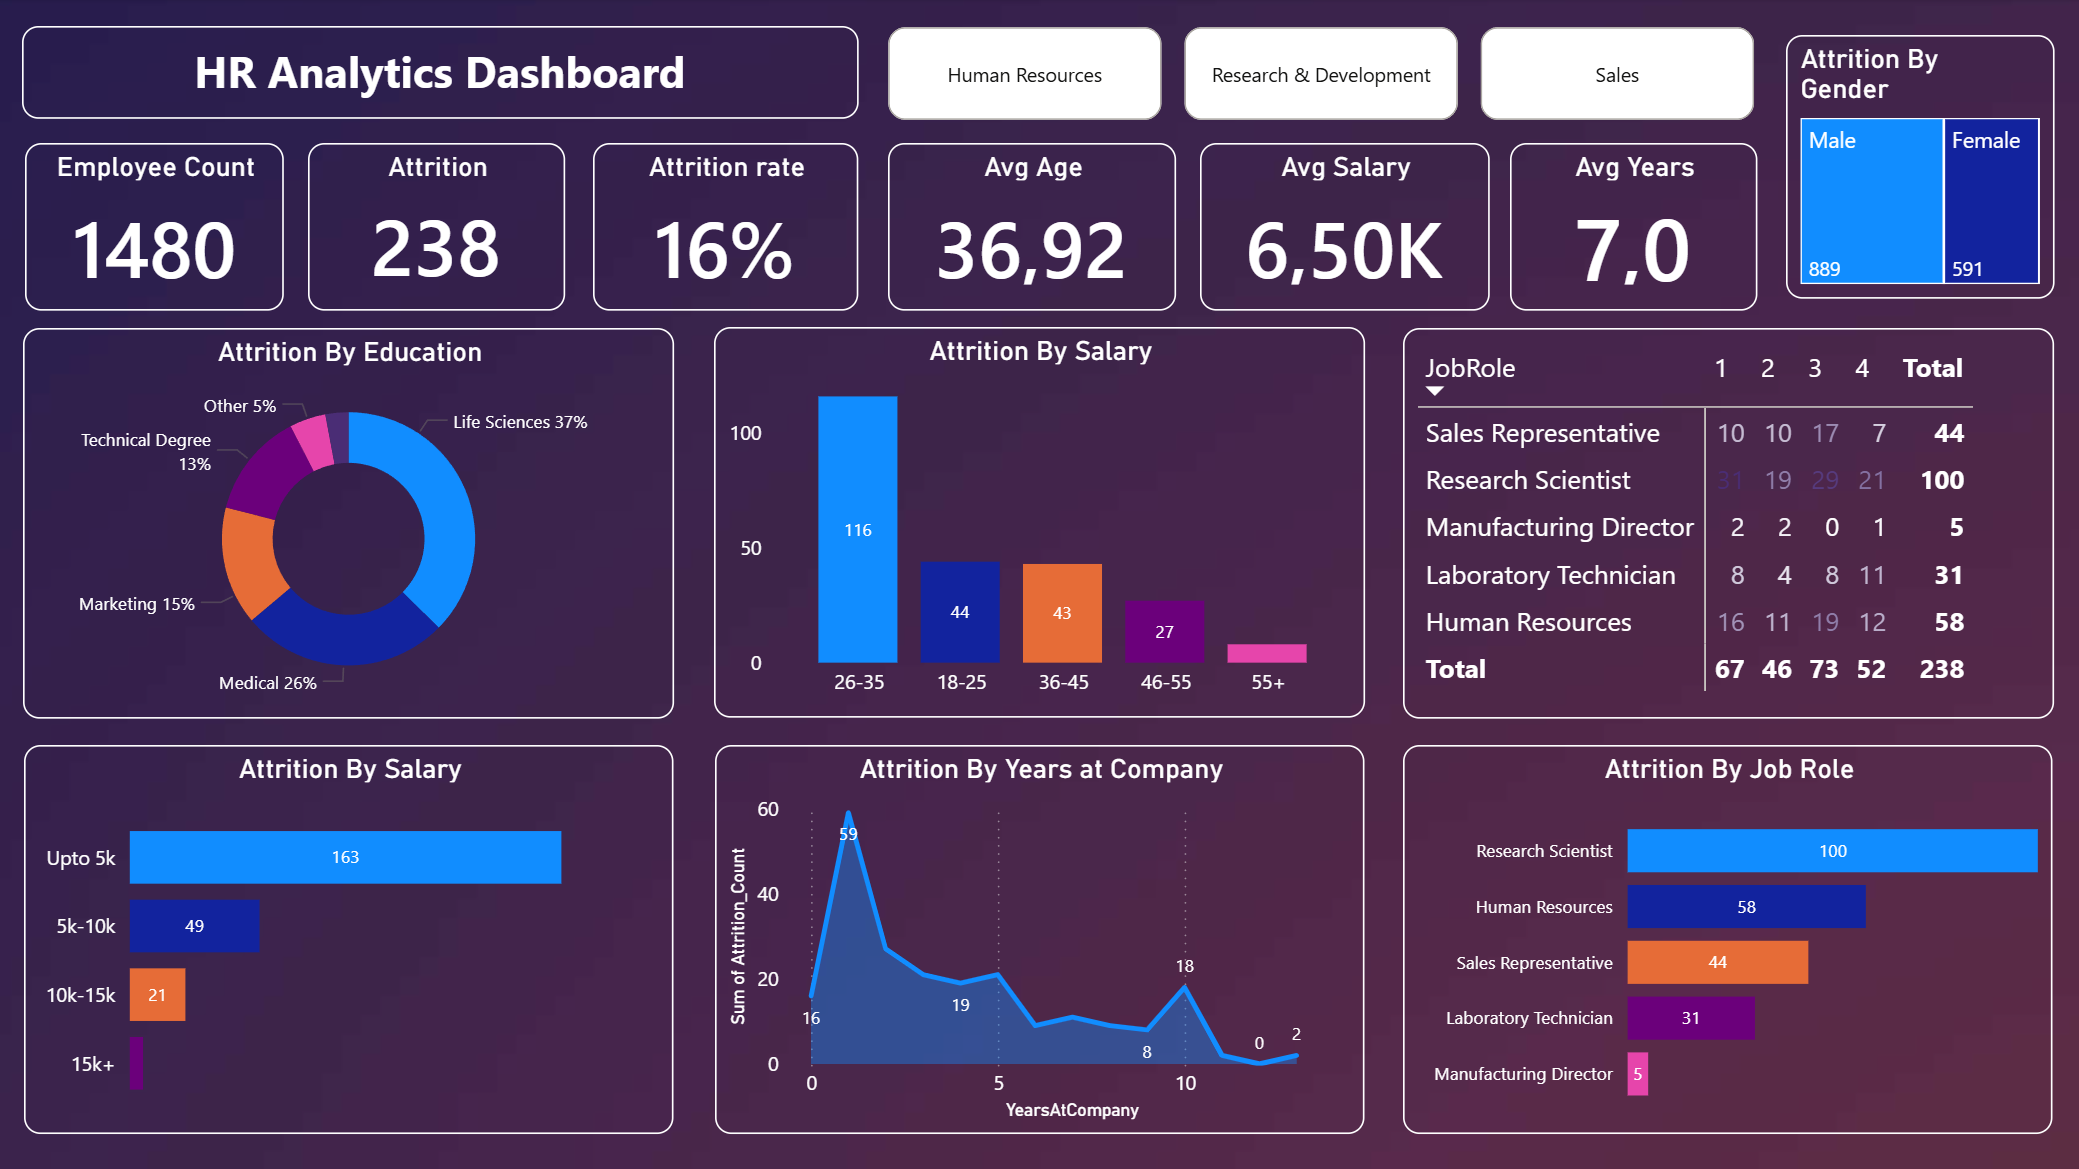

This screenshot's page, from the dashboard's own definition file:
{"tool":"powerbi","page":{"name":"Page 1","canvas":[1280,720],"ordinal":0},"visuals":[{"type":"cardVisual","title":"Employee Count","fields":{"Data":["CountNonNull(HR_Data.EmpID)"]},"box":[16.6,88.5,159.1,102.6],"z":0},{"type":"cardVisual","title":"Attrition","fields":{"Data":["Sum(HR_Data.Attrition_Count)"]},"box":[190.4,88.5,157.9,102.6],"z":1000},{"type":"cardVisual","title":"Attrition rate","fields":{"Data":["HR_Data.Attrition Rate"]},"box":[365.5,88.5,162.8,102.6],"z":2000},{"type":"cardVisual","title":"Avg Age","fields":{"Data":["Avg(HR_Data.Age)"]},"box":[546.8,88.5,176.9,102.6],"z":3000},{"type":"cardVisual","title":"Avg Salary","fields":{"Data":["Avg(HR_Data.MonthlyIncome)"]},"box":[738.4,88.5,177.5,102.6],"z":4000},{"type":"cardVisual","title":"Avg Years","fields":{"Data":["Avg(HR_Data.YearsAtCompany)"]},"box":[928.9,88.5,151.7,102.6],"z":5000},{"type":"textbox","box":[14.9,17,513.3,57.3],"z":6000},{"type":"advancedSlicerVisual","fields":{"Values":["Departments.Department"]},"box":[541.6,12,543.7,67.3],"z":7000},{"type":"treemap","title":"Attrition By Gender","fields":{"Values":["CountNonNull(HR_Data.Attrition_Count)"],"Group":["HR_Data.Gender"]},"box":[1098.6,22,164.5,161.9],"z":8000},{"type":"donutChart","title":"Attrition By Education","fields":{"Category":["Education.Education"],"Y":["Sum(HR_Data.Attrition_Count)"]},"box":[15.4,202.1,400,240],"z":9000},{"type":"barChart","title":"Attrition By Salary","fields":{"Category":["HR_Data.SalarySlab"],"Y":["Sum(HR_Data.Attrition_Count)"],"Series":["HR_Data.SalarySlab"]},"box":[16,458.3,399.3,239],"z":10000},{"type":"columnChart","title":"Attrition By Salary","fields":{"Category":["HR_Data.AgeGroup"],"Y":["Sum(HR_Data.Attrition_Count)"],"Series":["HR_Data.AgeGroup"]},"box":[439.9,201.5,399.9,240.2],"z":11000},{"type":"pivotTable","title":"Attrition By Education","fields":{"Rows":["Jobs.JobRole"],"Columns":["HR_Data.JobSatisfaction"],"Values":["Sum(HR_Data.Attrition_Count)"]},"box":[863.1,202.1,399.9,240.2],"z":12000},{"type":"areaChart","title":"Attrition By Years at Company","fields":{"Category":["HR_Data.YearsAtCompany"],"Y":["Sum(HR_Data.Attrition_Count)"]},"box":[440.5,458.3,399.3,239],"z":13000},{"type":"barChart","title":"Attrition By Job Role","fields":{"Y":["Sum(HR_Data.Attrition_Count)"],"Category":["Jobs.JobRole"],"Series":["Jobs.JobRole"]},"box":[863.1,458.3,399.3,239],"z":14000}]}

Visuals, with their boxes in screenshot pixels (x1, y1, x2, y2), scaled from the page's 1280x720 canvas onto the 2079x1169 screenshot:
"Employee Count" cardVisual: 27:144:285:310
"Attrition" cardVisual: 309:144:566:310
"Attrition rate" cardVisual: 594:144:858:310
"Avg Age" cardVisual: 888:144:1175:310
"Avg Salary" cardVisual: 1199:144:1488:310
"Avg Years" cardVisual: 1509:144:1755:310
textbox: 24:28:858:121
advancedSlicerVisual - Departments.Department: 880:19:1763:129
"Attrition By Gender" treemap: 1784:36:2052:299
"Attrition By Education" donutChart: 25:328:675:718
"Attrition By Salary" barChart: 26:744:675:1132
"Attrition By Salary" columnChart: 714:327:1364:717
"Attrition By Education" pivotTable: 1402:328:2051:718
"Attrition By Years at Company" areaChart: 715:744:1364:1132
"Attrition By Job Role" barChart: 1402:744:2050:1132
